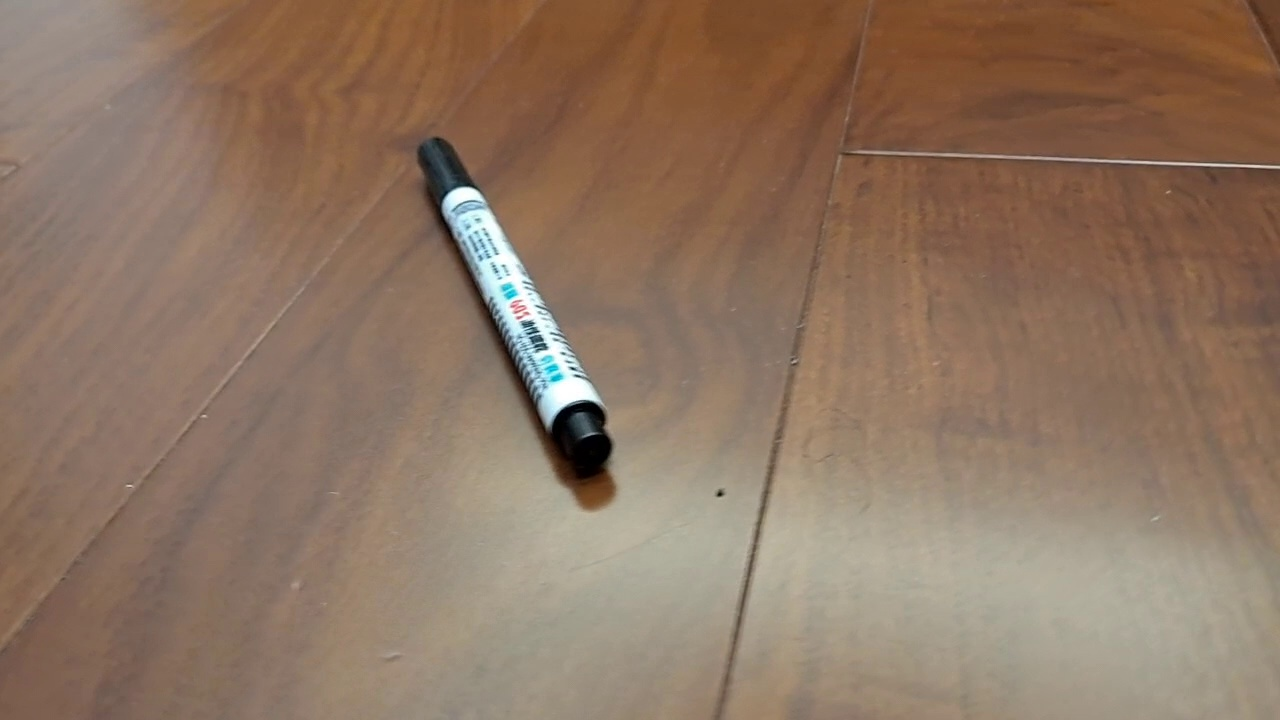pen: (416, 135, 614, 477)
